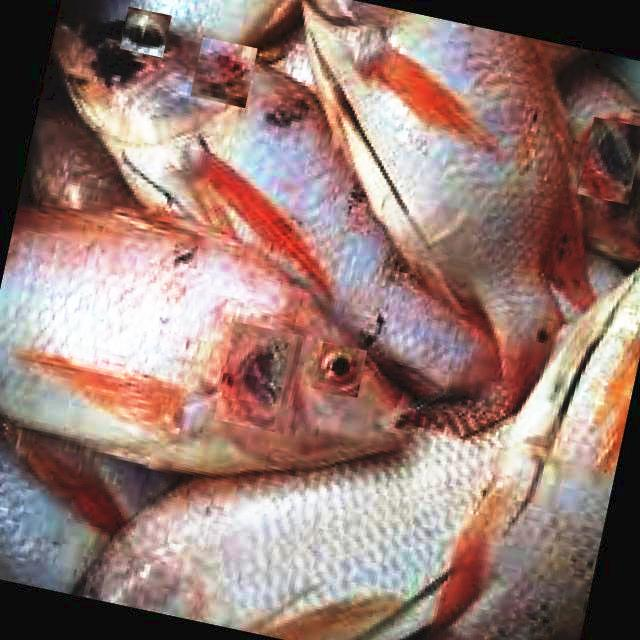Aeromonas Septicemia: (52, 12, 498, 410), (0, 202, 423, 477)
